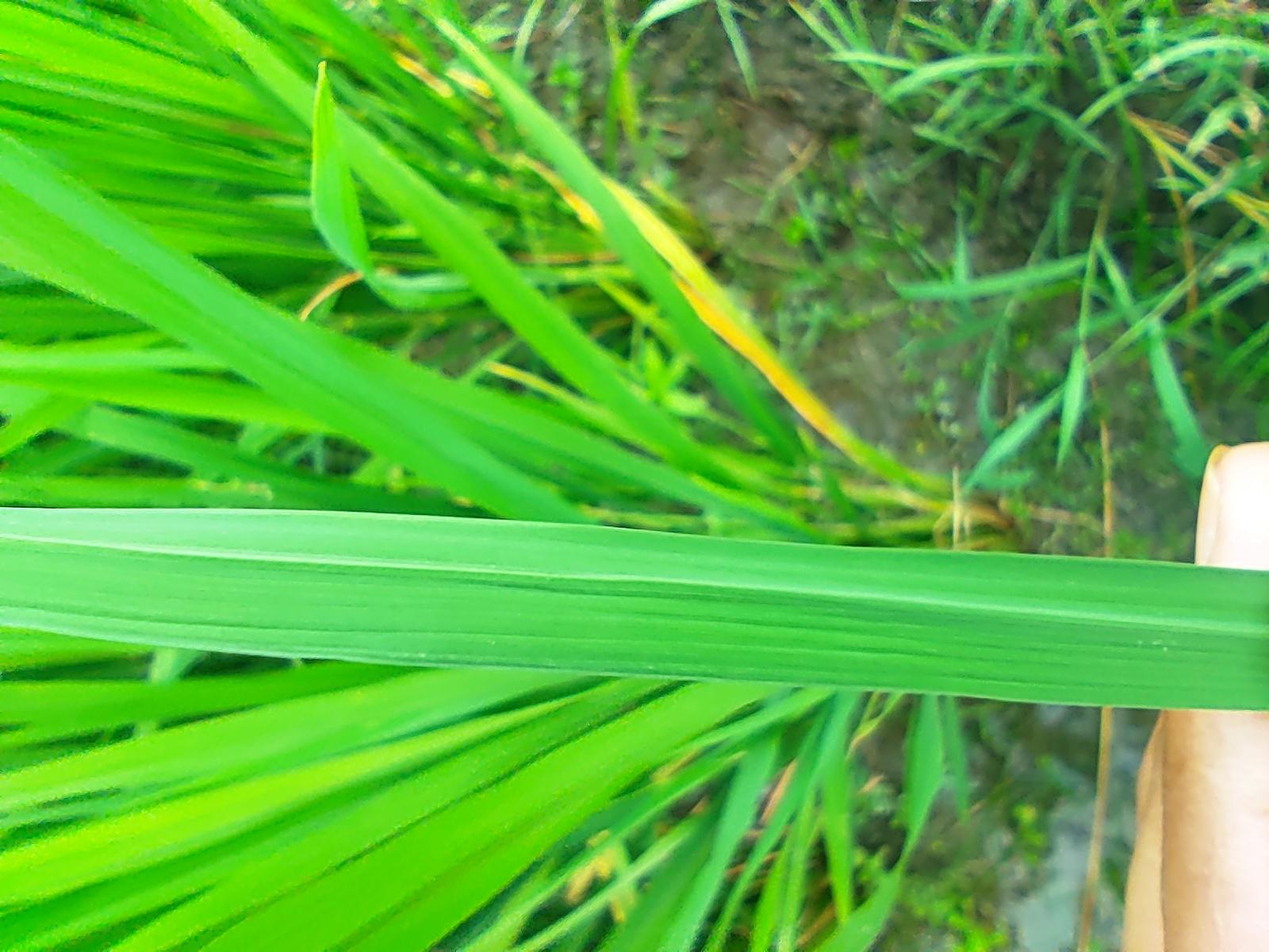Healthy: (324, 0, 590, 951)
